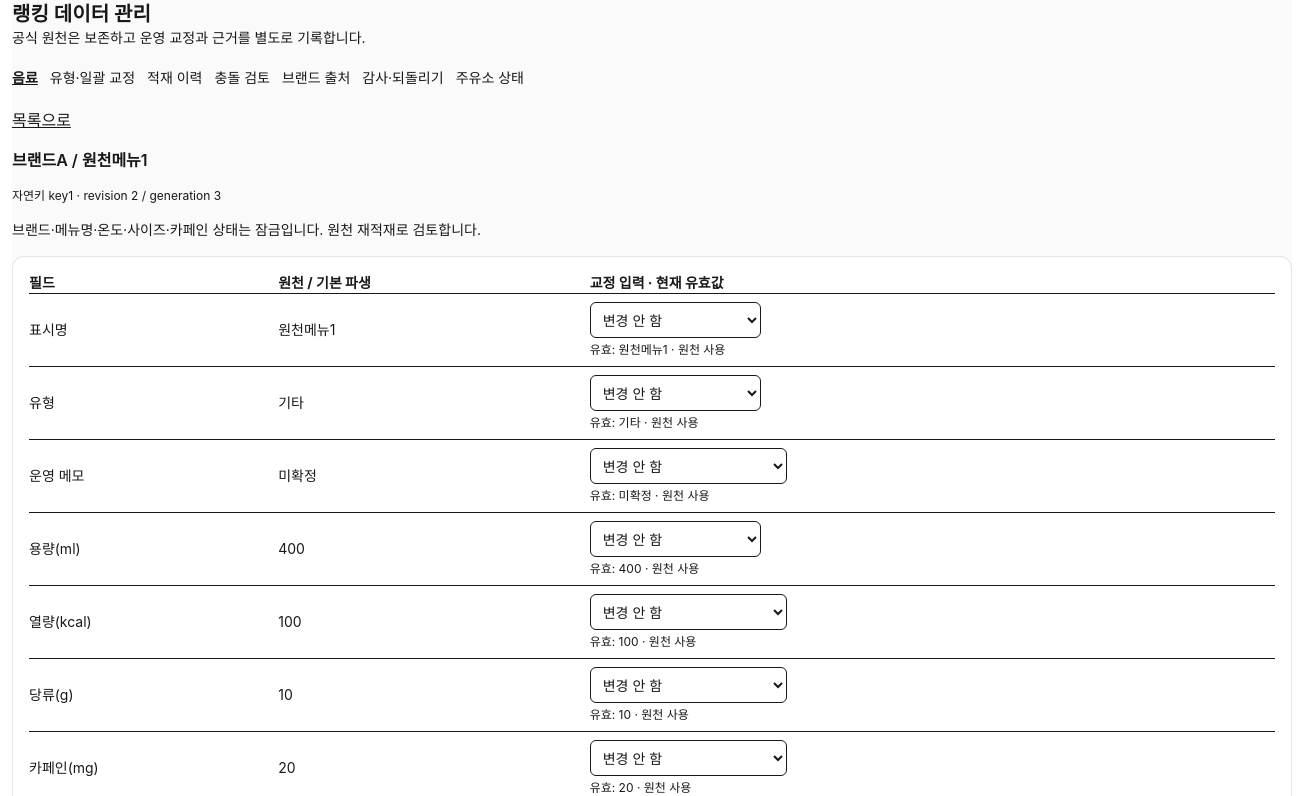
Test: round 1 reviewed UI contracts › F4/F14 previews nullable nutrients and cup/source/per100ml before saving
Expected: the heading "브랜드A / 원천메뉴1" is shown, [12,150,148,170]
Select "교정값 사용" in the dropdown named "당류(g) 처리": (688, 685) [590,667,787,703]
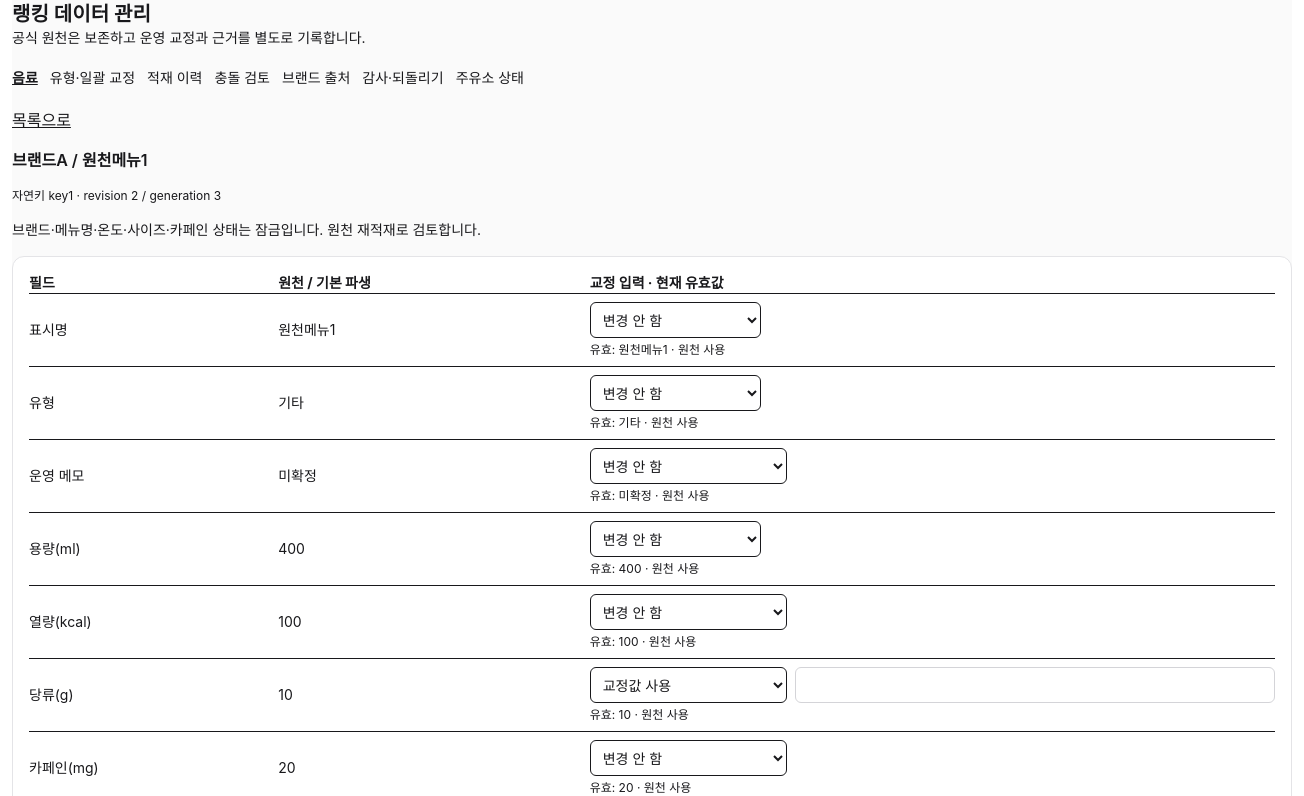
In the field named "당류(g) 새 값": (1035, 685) [795,667,1275,703], type "20"
Select "교정값 사용" in the dropdown named "용량(ml) 처리": (675, 539) [590,521,761,557]
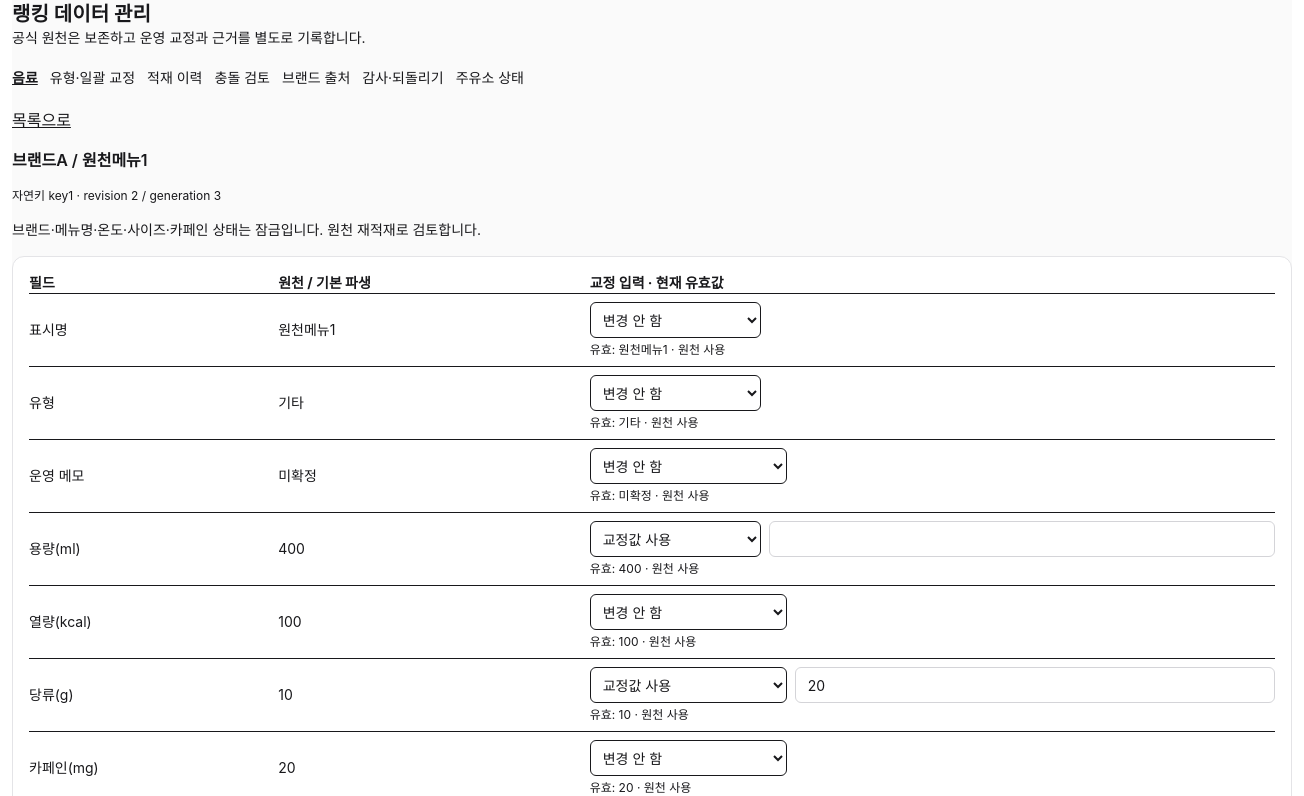
In the field named "용량(ml) 새 값": (1022, 539) [769,521,1275,557], type "500"
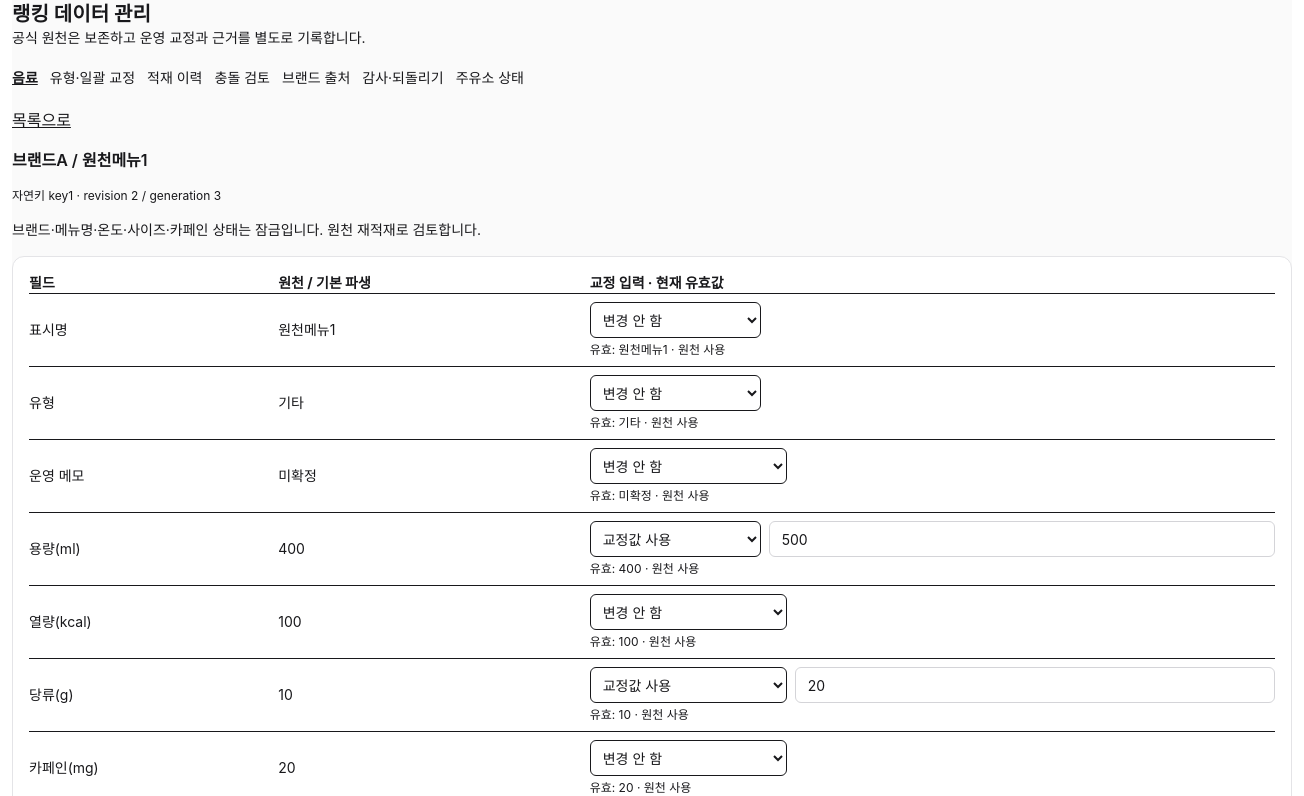
Select "미확정 — 추론 중지" in the dropdown named "용량(ml) 처리": (675, 539) [590,521,761,557]
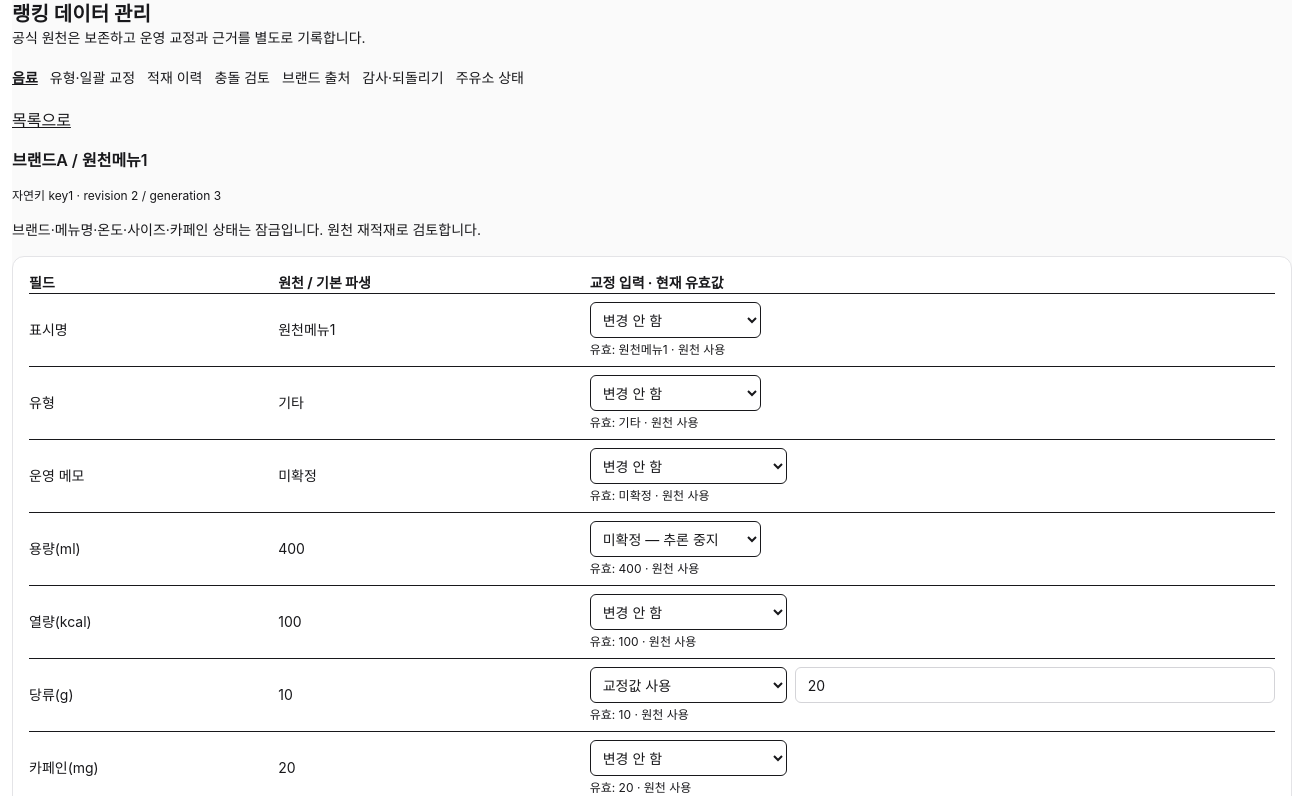
Select "교정 해제 — 현재 원천" in the dropdown named "용량(ml) 처리": (675, 539) [590,521,761,557]
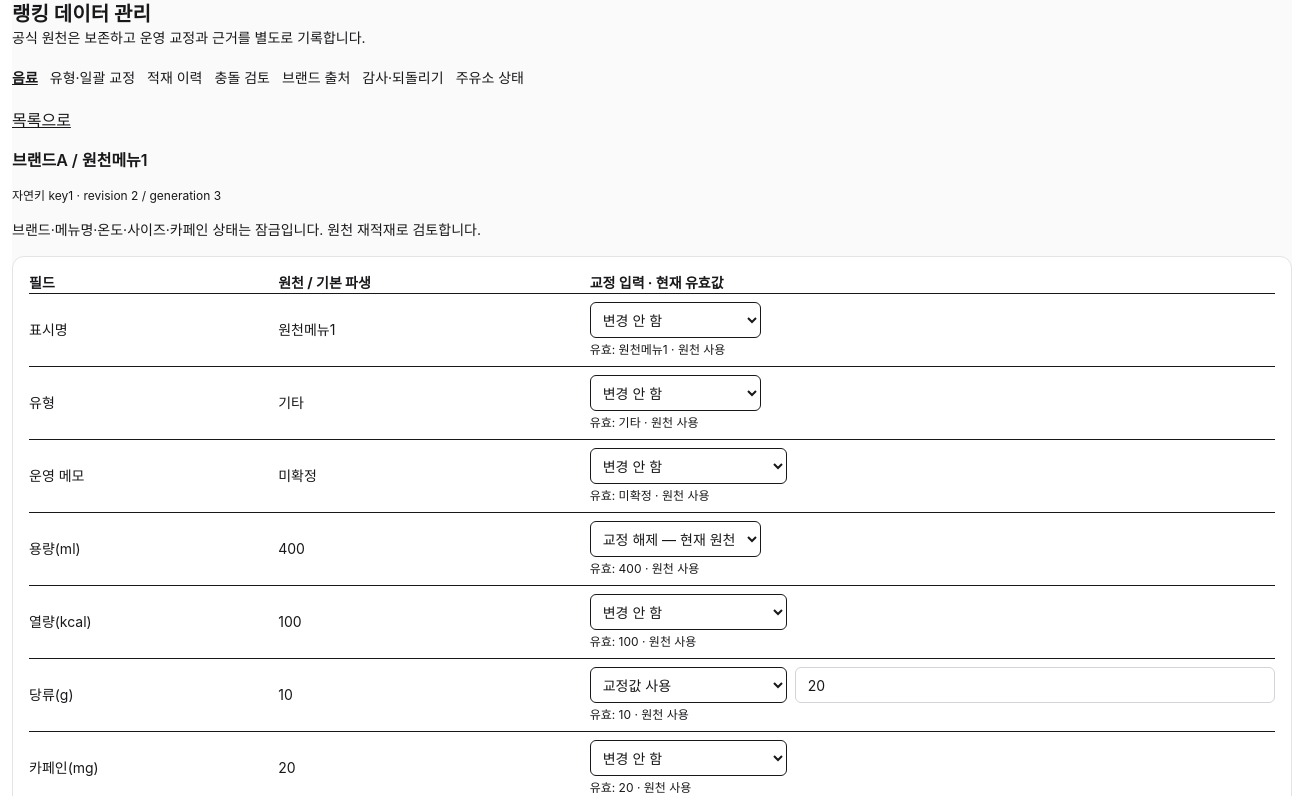
Select "미확정 — 원천값 사용 중지" in the dropdown named "당류(g) 처리": (688, 685) [590,667,787,703]
(page scrolled)
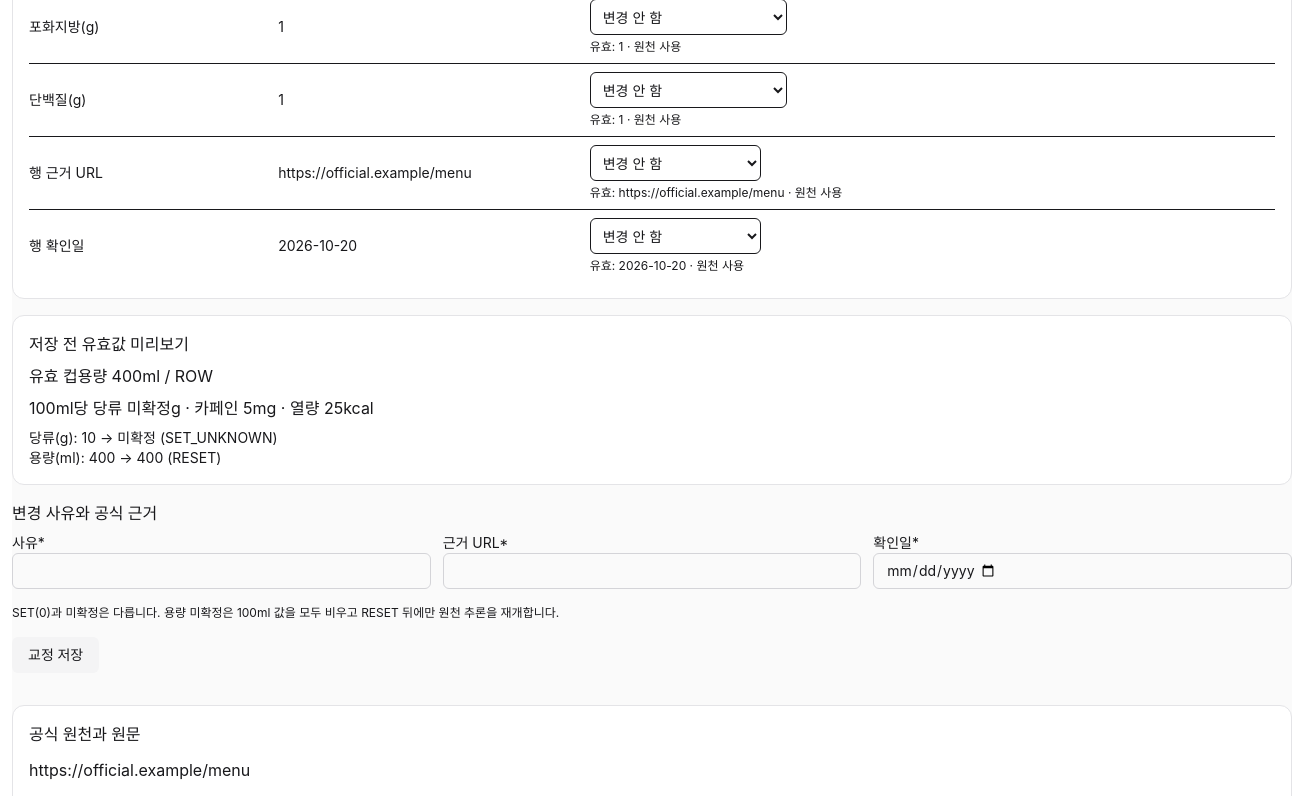
Result: the element named "변경 미리보기" shows "100ml당 당류 미확정g" at [12,315,1292,485]
